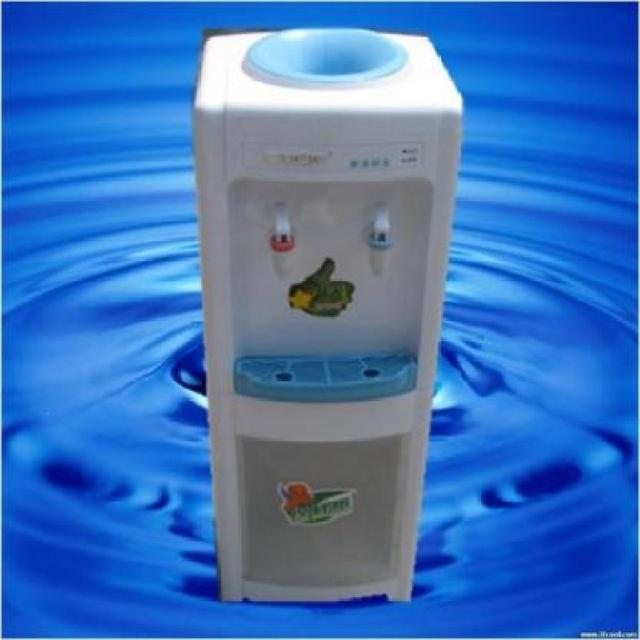cooler: (190, 24, 464, 606)
